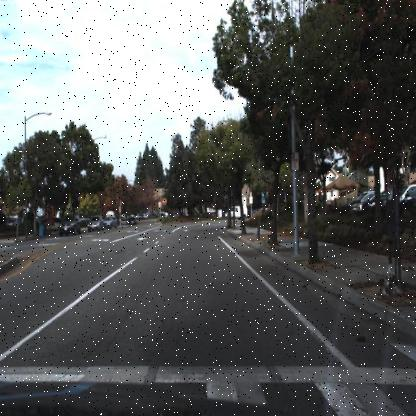car: (56, 211, 83, 238), (84, 211, 108, 236), (347, 184, 371, 209), (83, 212, 103, 234), (100, 210, 120, 232), (124, 212, 139, 228)
